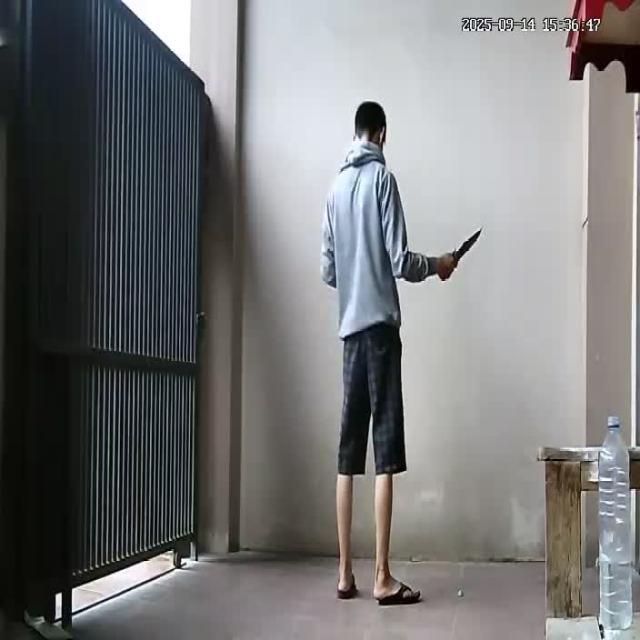senjata_tajam: (453, 225, 484, 268)
